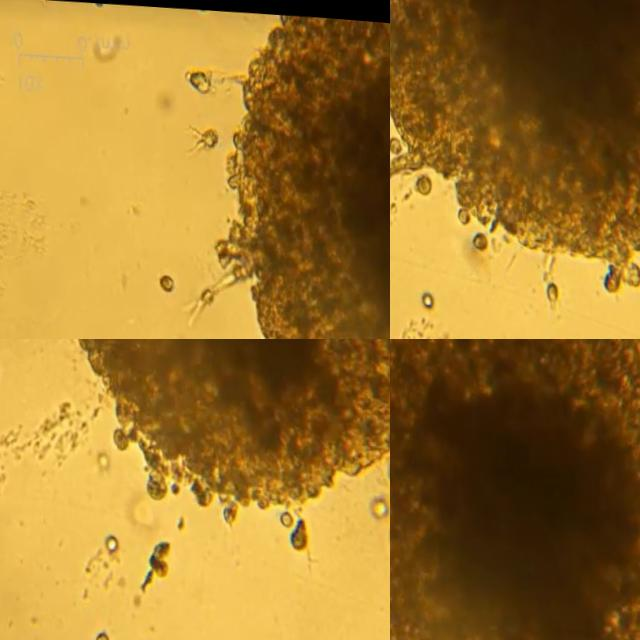cell: (184, 122, 220, 150), (147, 534, 169, 571), (186, 65, 212, 91), (290, 507, 306, 543), (368, 487, 386, 508), (156, 271, 175, 290), (414, 169, 430, 190), (94, 445, 109, 466), (102, 530, 118, 546), (471, 225, 485, 243), (276, 502, 290, 519), (390, 133, 402, 150), (140, 566, 152, 582), (546, 275, 555, 295), (420, 289, 432, 302), (94, 628, 107, 640)
tumor_mass: (390, 339, 640, 640), (176, 10, 390, 339), (77, 339, 390, 515)
